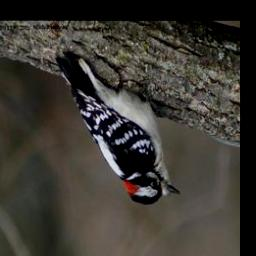Woodpecker: (52, 52, 179, 205)
